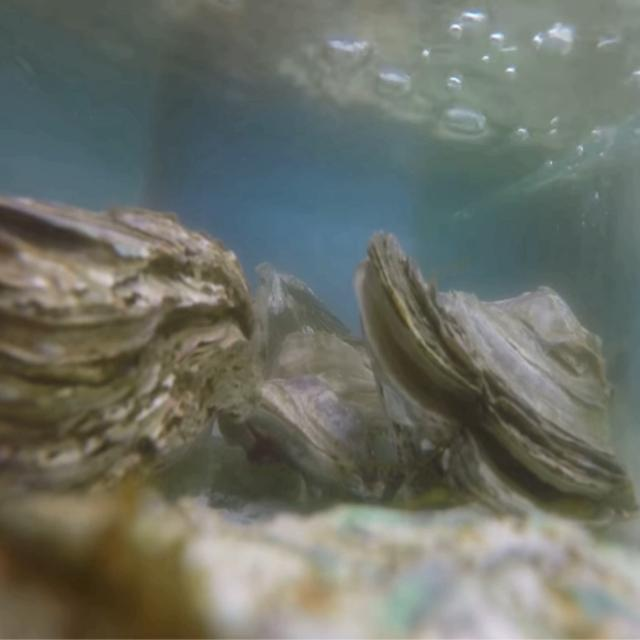Oyster-Closed: (0, 196, 252, 536), (257, 328, 414, 502)
Oyster-Indeterminate: (0, 489, 640, 640)
Oyster-Open: (354, 231, 640, 538)
